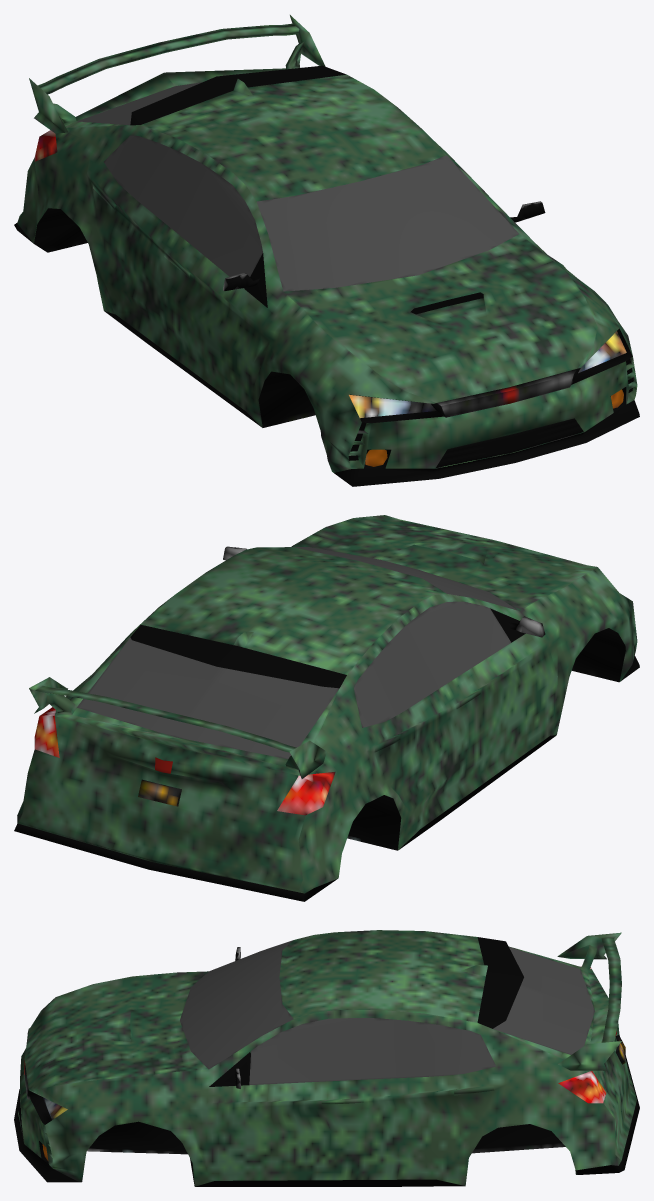
The model's file is honda civic.fbx.
3 views of the same model, one above another, from view 1: azimuth 30°, elevation 25°; view 2: azimuth 150°, elevation 25°; view 3: azimuth 270°, elevation 25° (orthographic). The views are drawn at different scales.
Visible parts, largest first — view 1: honda civic; view 2: honda civic; view 3: honda civic.
Part boxes in pixels (<box>): honda civic: <box>14,15,639,486</box>; honda civic: <box>14,515,639,901</box>; honda civic: <box>14,930,639,1186</box>.
Bounding box in the file's own units: 3.05 × 1.72 × 6.06.
